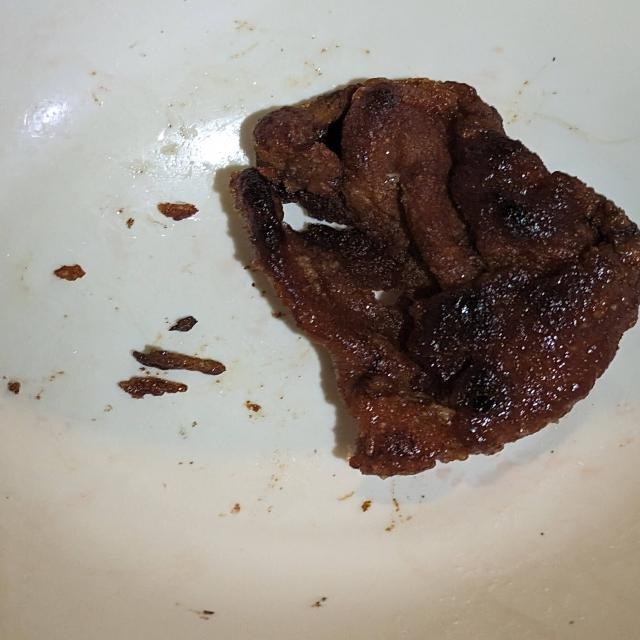overcooked pork: (206, 69, 640, 500)
